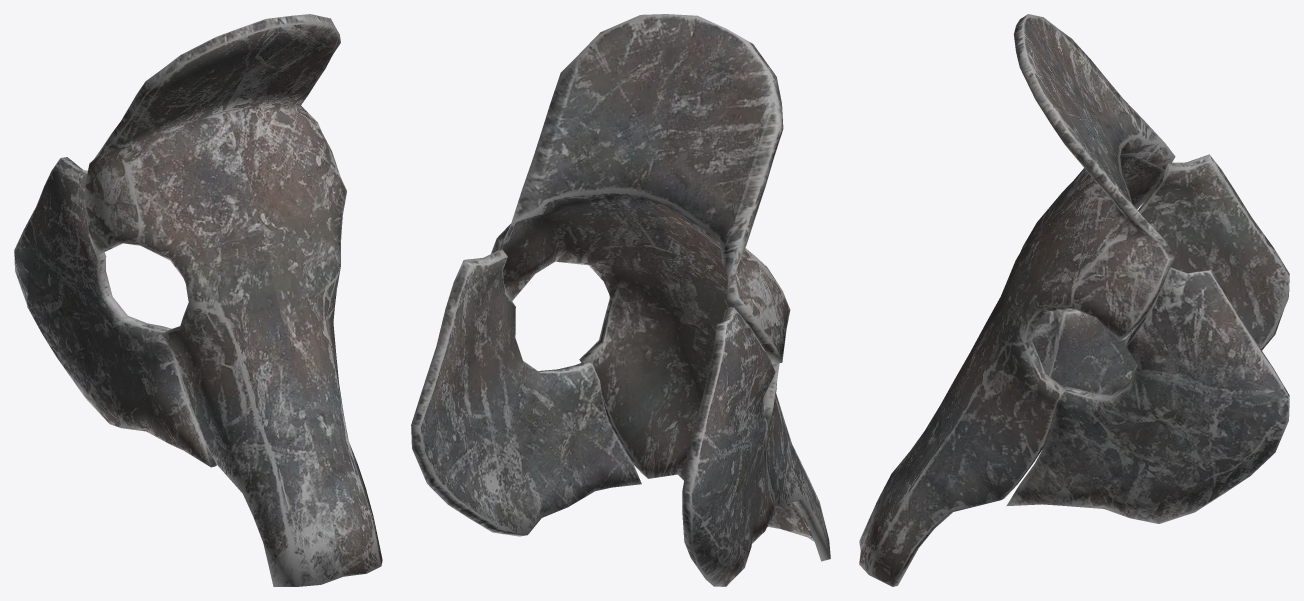
Rendered from headgear.glb.
3 views of the same model, side by side, from view 1: azimuth 30°, elevation 25°; view 2: azimuth 150°, elevation 25°; view 3: azimuth 270°, elevation 25° (orthographic). The views are drawn at different scales.
Visible parts, largest first — view 1: SM_24TR0004_Low_01 - Default_0; view 2: SM_24TR0004_Low_01 - Default_0; view 3: SM_24TR0004_Low_01 - Default_0.
Part boxes in pixels (left/top/right/bottom): SM_24TR0004_Low_01 - Default_0: left=14, top=14, right=382, bottom=586; SM_24TR0004_Low_01 - Default_0: left=411, top=14, right=830, bottom=586; SM_24TR0004_Low_01 - Default_0: left=859, top=14, right=1289, bottom=586.
Size of the model in its own units: 0.3128 by 0.6092 by 0.4468.
1 material, 1 textured.
